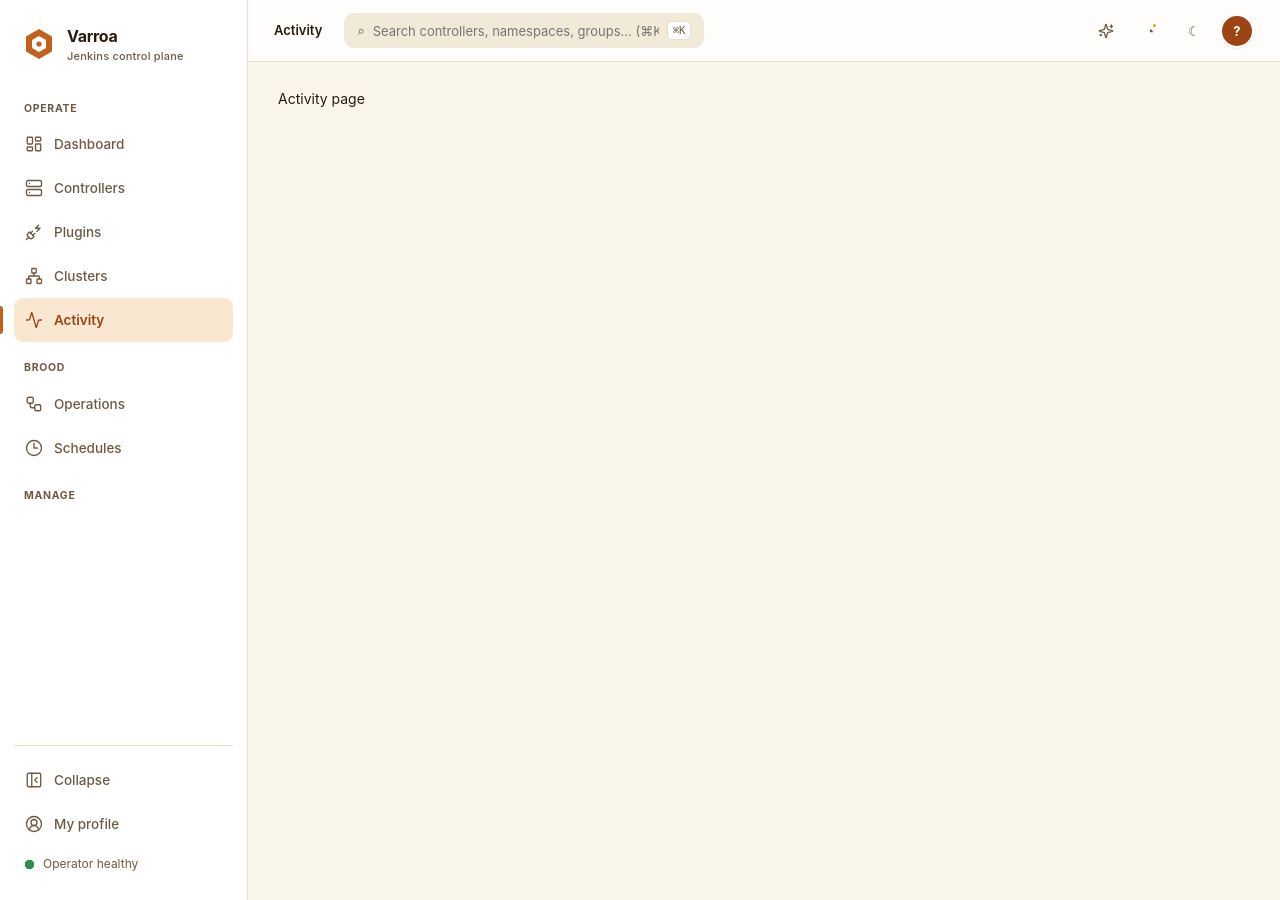
Scenario: Layout assistant doors › opens the drawer from the top-bar button and closes it with the button again
The image size is (1280, 900).
Click the button named "Assistant": (1106, 30) x1=1088 y1=12 x2=1124 y2=48
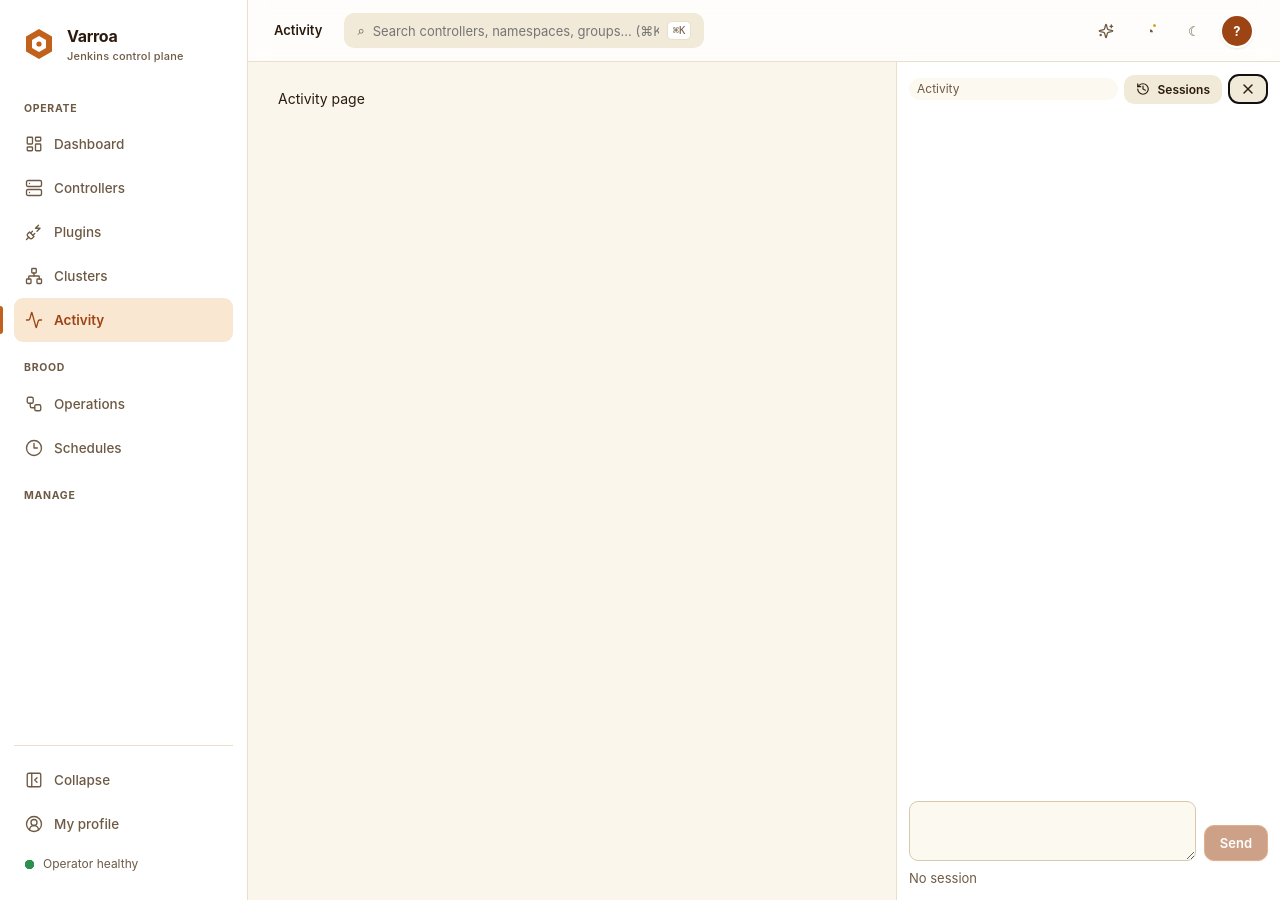
Expected: the element named "Assistant" is shown, x1=896 y1=62 x2=1279 y2=899
Click the button named "Assistant": (1106, 30) x1=1088 y1=12 x2=1124 y2=48
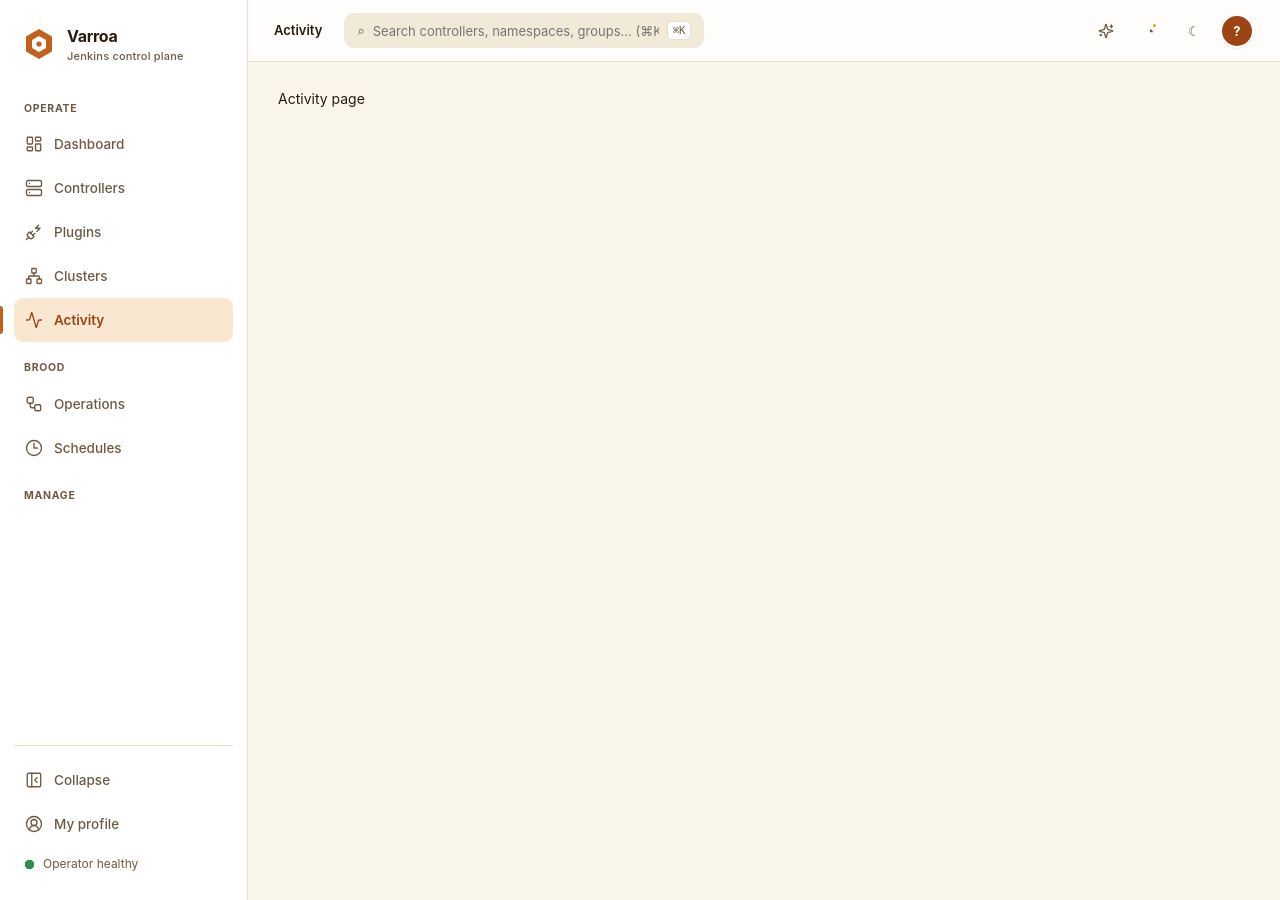
Expected: the text "Activity Sessions Send No session" is gone
